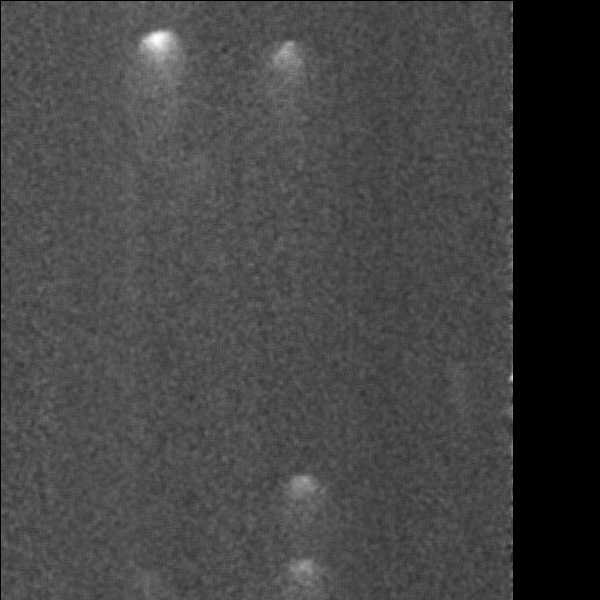spark: (129, 30, 184, 95), (266, 36, 309, 118), (283, 468, 321, 516), (285, 550, 321, 592)
